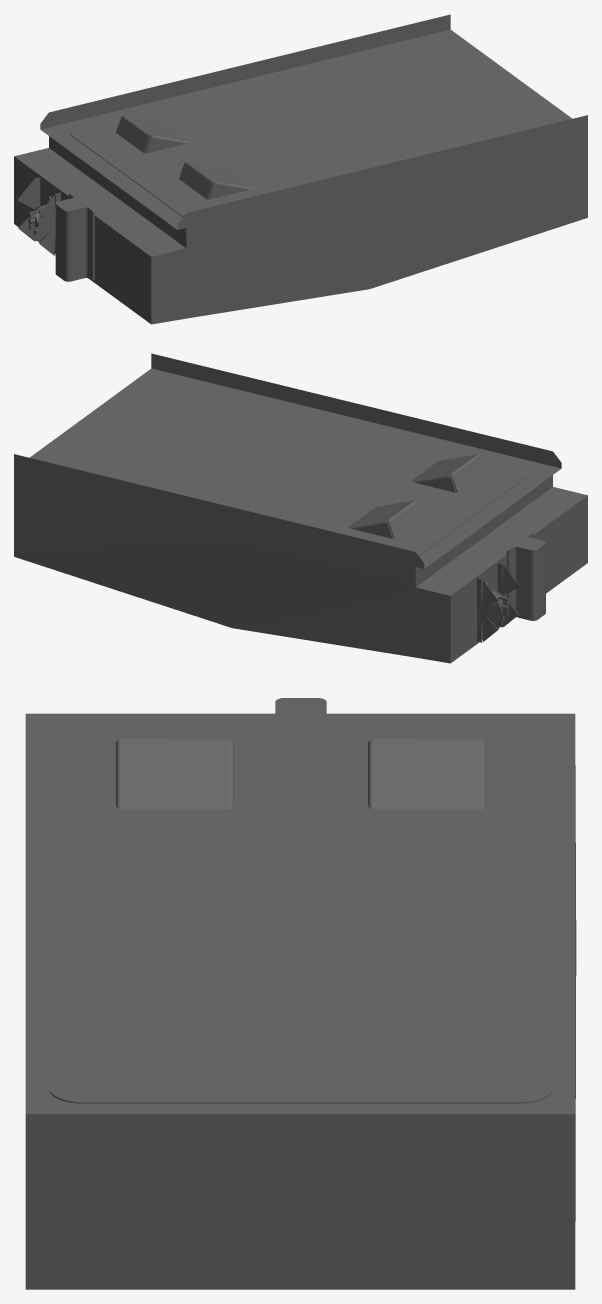
Rendered from Whog_chasis_corr.glb.
3 views of the same model, one above another, from view 1: azimuth 30°, elevation 25°; view 2: azimuth 150°, elevation 25°; view 3: azimuth 270°, elevation 25° (orthographic). The views are drawn at different scales.
Visible parts, largest first — view 1: WHog_Chassis; view 2: WHog_Chassis; view 3: WHog_Chassis.
Part boxes in pixels (x1,y1,x2,y2): WHog_Chassis: [14, 14, 587, 324]; WHog_Chassis: [14, 353, 587, 663]; WHog_Chassis: [25, 698, 576, 1289].
Bounding box in the file's own units: 1.36 × 0.3479 × 0.7073.
Materials: 1 (1 with a texture image).
